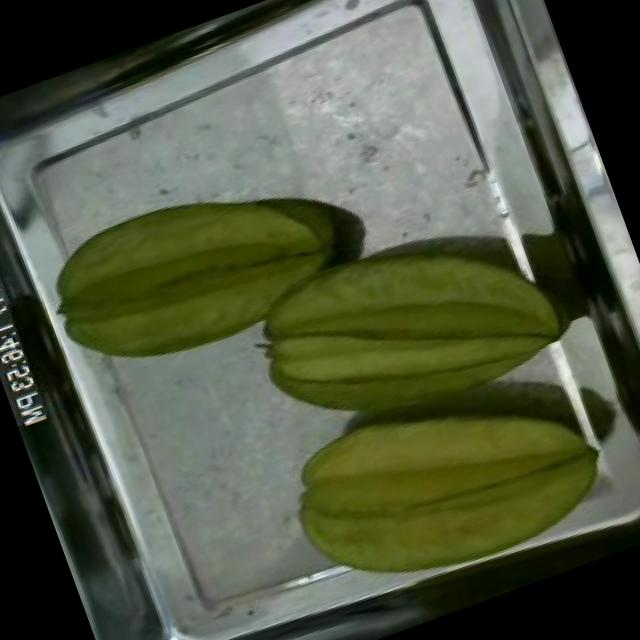fruit: (266, 337, 634, 634), (225, 180, 593, 470), (25, 137, 374, 406)
